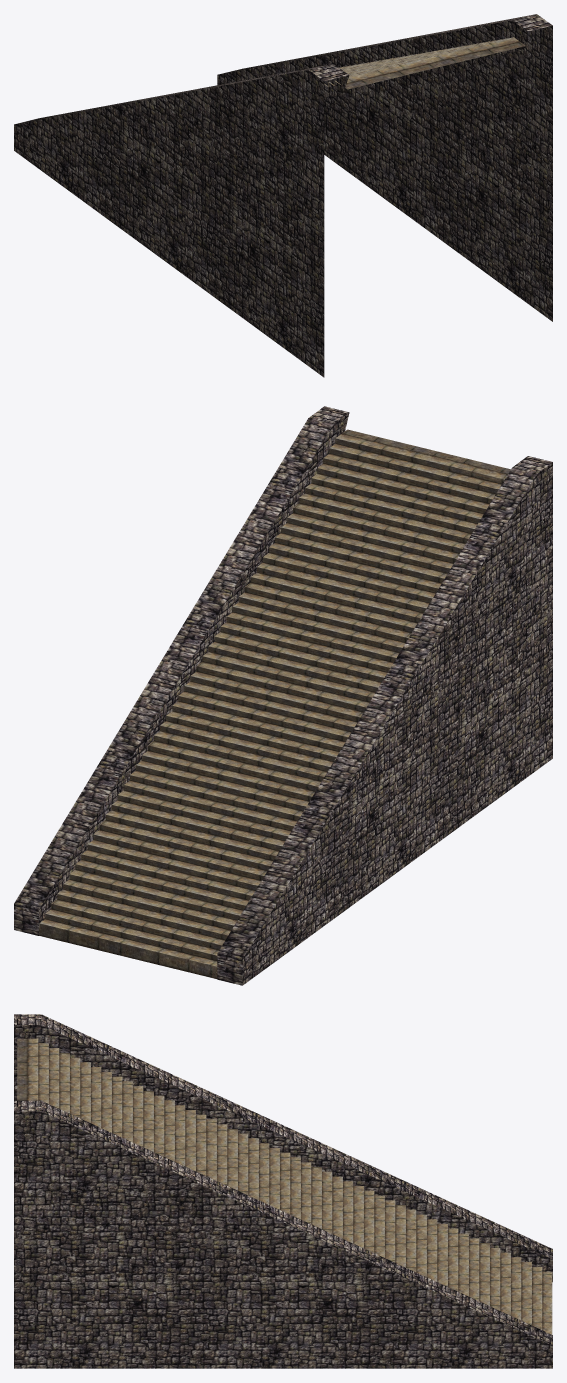
File: fort_stair_med.fbx
3 views of the same model, one above another, from view 1: azimuth 30°, elevation 25°; view 2: azimuth 150°, elevation 25°; view 3: azimuth 270°, elevation 25° (orthographic). The views are drawn at different scales.
Visible parts, largest first — view 1: wall_right, wall_left, stairs; view 2: stairs, wall_right, wall_left; view 3: wall_left, stairs, wall_right.
Boxes of the visible parts, bbox=[...] form: wall_right: bbox=[14, 64, 349, 377]; wall_left: bbox=[217, 14, 552, 321]; stairs: bbox=[324, 37, 525, 89]; stairs: bbox=[39, 429, 510, 978]; wall_right: bbox=[217, 456, 552, 985]; wall_left: bbox=[14, 406, 349, 935]; wall_left: bbox=[14, 1100, 552, 1368]; stairs: bbox=[17, 1038, 552, 1334]; wall_right: bbox=[14, 1014, 552, 1282].
Bounding box in the file's own units: 3639 × 4513 × 8560.
2 materials, 2 textured.
